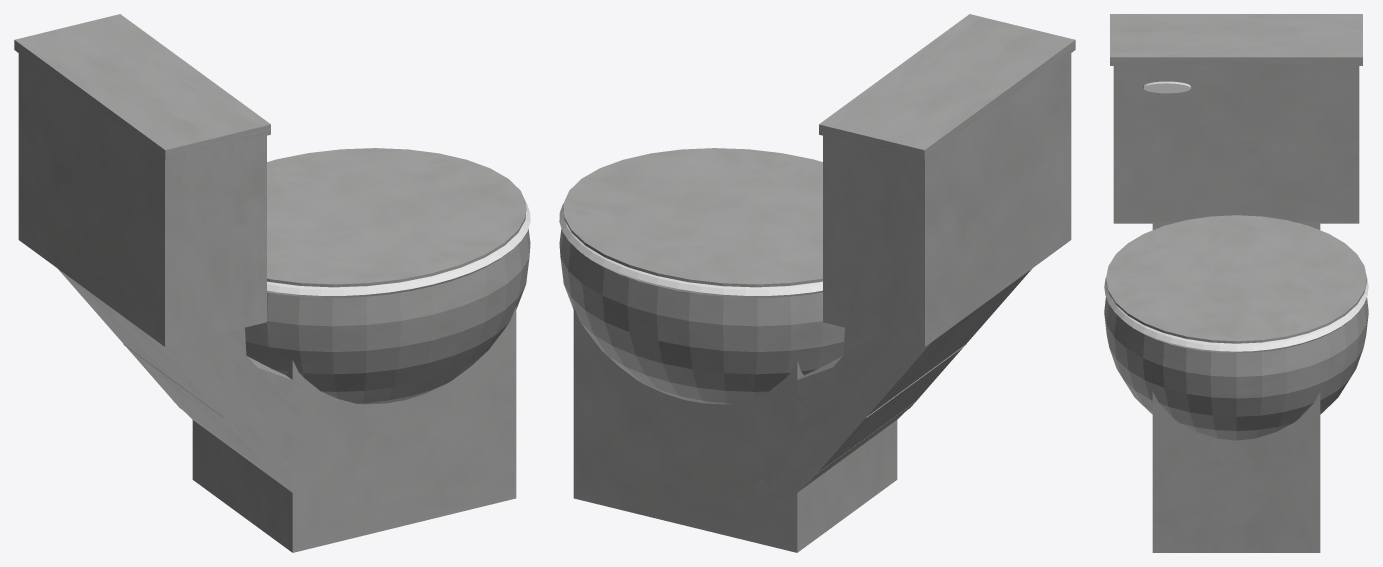
File: Toilet.fbx
3 renders of one model, left to right at view 1: azimuth 30°, elevation 25°; view 2: azimuth 150°, elevation 25°; view 3: azimuth 270°, elevation 25°, orthographic. The views are drawn at different scales.
Parts seen in each view (by area): view 1: Cube.001, Cube, Cylinder.001, Sphere, Cube.002, Cube.003, Torus, Cube.006, Cube.005, Cube.004; view 2: Cube.001, Cube, Cylinder.001, Sphere, Cube.002, Cube.003, Cube.005, Cube.006, Torus; view 3: Cube.001, Cylinder.001, Cube, Sphere, Cube.002, Torus, Cylinder.002.
Part boxes in pixels (x1,y1,x2,y2): Cube.001: (18, 53, 266, 346); Cube: (192, 306, 516, 552); Cylinder.001: (267, 148, 526, 287); Sphere: (245, 229, 530, 404); Cube.002: (14, 14, 270, 160); Cube.003: (57, 268, 319, 480); Torus: (267, 203, 530, 297); Cube.006: (123, 344, 312, 434); Cube.005: (173, 401, 327, 492); Cube.004: (195, 327, 246, 375); Cube.001: (823, 53, 1071, 346); Cube: (573, 306, 897, 552); Cylinder.001: (563, 148, 822, 287); Sphere: (559, 229, 844, 404); Cube.002: (819, 14, 1075, 160); Cube.003: (775, 268, 1032, 480); Cube.005: (738, 401, 916, 512); Cube.006: (797, 344, 966, 439); Torus: (559, 203, 822, 297); Cube.001: (1113, 66, 1359, 223); Cylinder.001: (1106, 215, 1366, 343); Cube: (1152, 392, 1320, 552); Sphere: (1104, 297, 1368, 440); Cube.002: (1110, 14, 1362, 65); Torus: (1104, 278, 1368, 352); Cylinder.002: (1143, 81, 1190, 93).
Size of the model in its own units: 124 by 129 by 80.44.
11 materials, 10 textured.
